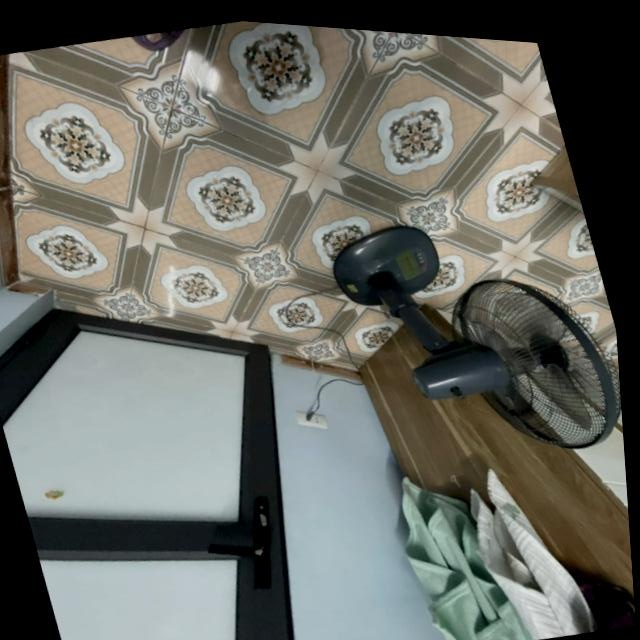outlet: (292, 405, 328, 436)
